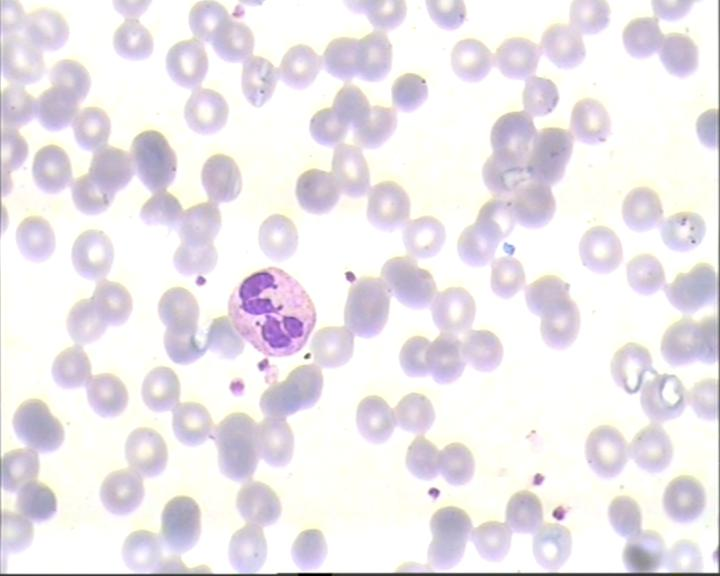neut: (224, 264, 319, 360)
